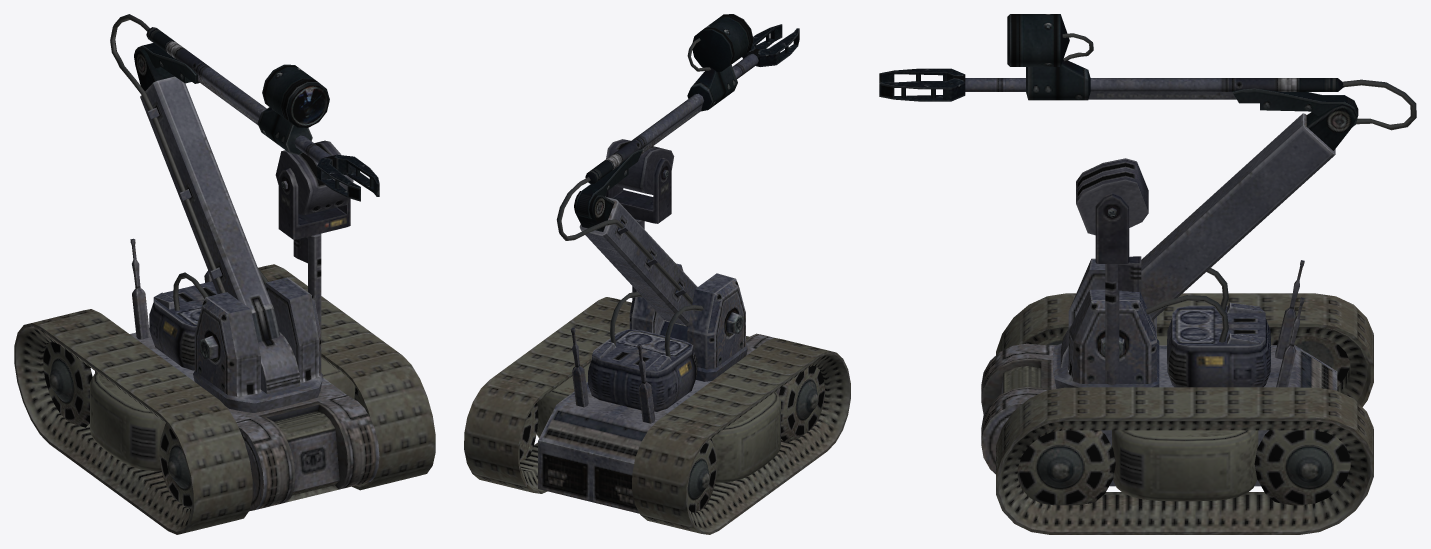
File: BombDisposalRobot.FBX
3 renders of one model, left to right at view 1: azimuth 30°, elevation 25°; view 2: azimuth 150°, elevation 25°; view 3: azimuth 270°, elevation 25°, orthographic. The views are drawn at different scales.
Parts seen in each view (by area): view 1: BombDisposalRobot; view 2: BombDisposalRobot; view 3: BombDisposalRobot.
Part boxes in pixels (<box>): BombDisposalRobot: <box>14,14,435,534</box>; BombDisposalRobot: <box>464,14,850,534</box>; BombDisposalRobot: <box>879,14,1416,534</box>.
Bounding box in the file's own units: 99.03 × 169 × 181.
